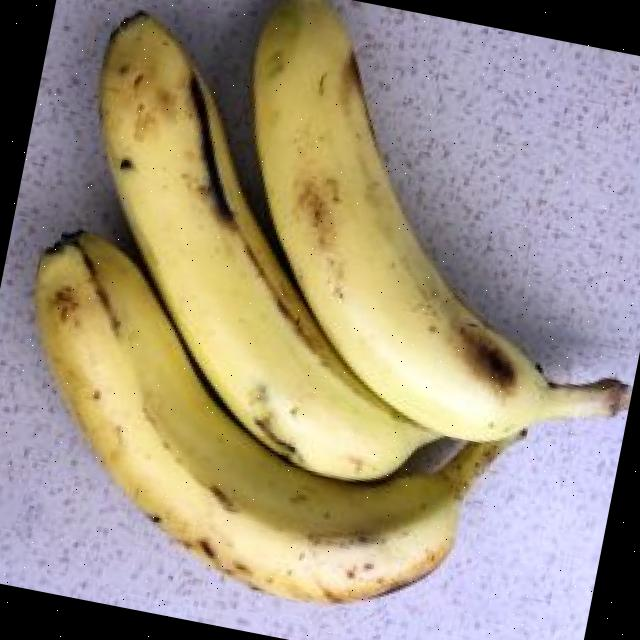banana: (33, 232, 518, 608), (250, 0, 627, 462), (98, 14, 444, 485)
